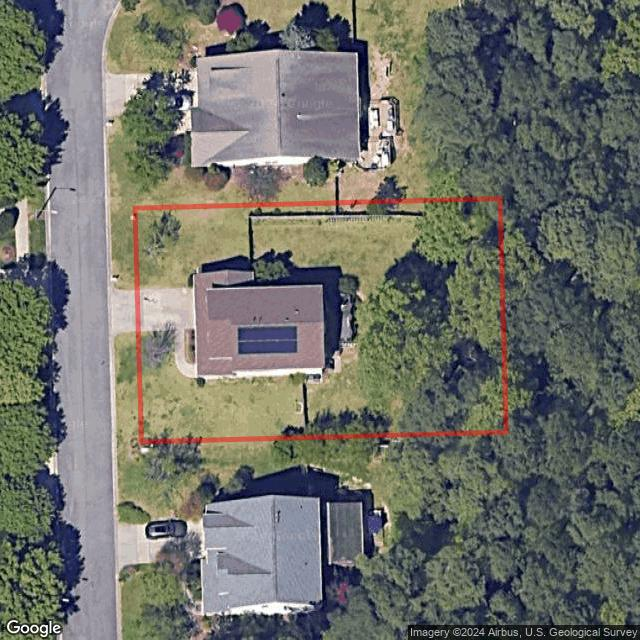Driveway: (139, 289, 198, 332)
Extra-Driveway: (110, 289, 138, 333)
Extra-Lawn: (115, 332, 142, 443), (108, 206, 138, 291)
House: (194, 270, 324, 379)
Lawn: (137, 198, 507, 443)
Other: (398, 199, 505, 436), (322, 288, 354, 375)
Sidewalk: (174, 331, 197, 379)
